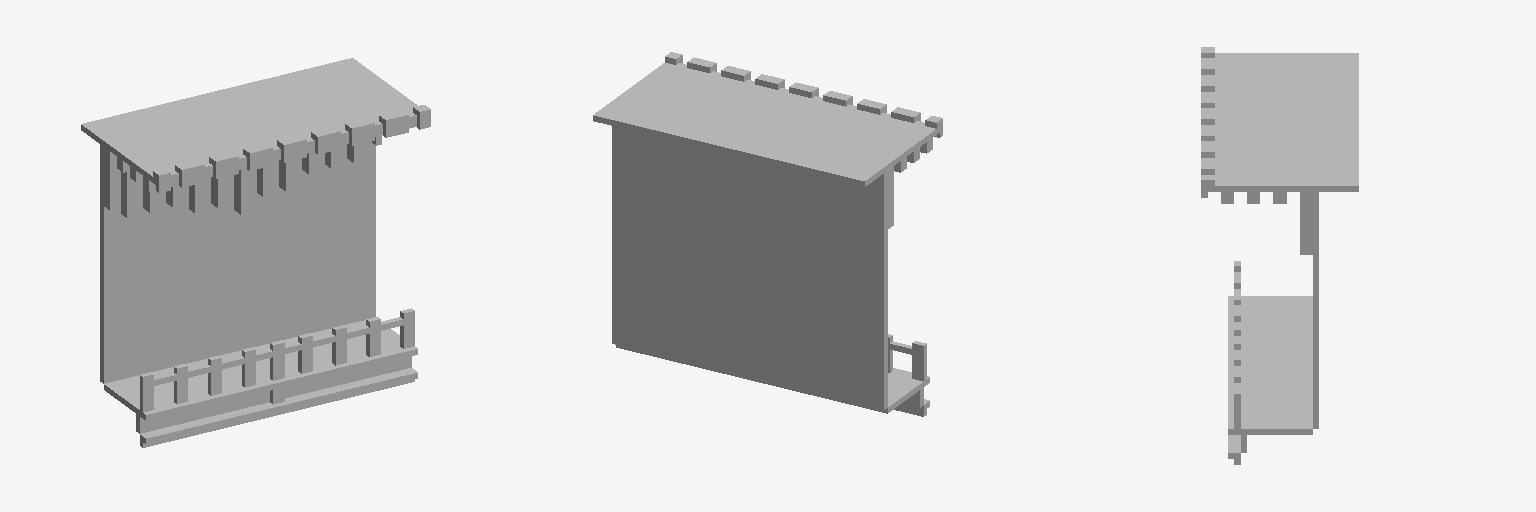
Rendered from villaGreyUpperBackWall-0.obj.
3 views of the same model, side by side, from view 1: azimuth 30°, elevation 25°; view 2: azimuth 150°, elevation 25°; view 3: azimuth 270°, elevation 25° (orthographic).
Visible parts, largest first — view 1: object 1; view 2: object 1; view 3: object 1.
Part boxes in pixels (bbox=[...]): object 1: bbox=[81, 58, 430, 447]; object 1: bbox=[593, 52, 942, 416]; object 1: bbox=[1201, 47, 1358, 464].
Bounding box in the file's own units: 4.8 × 4.8 × 2.4.